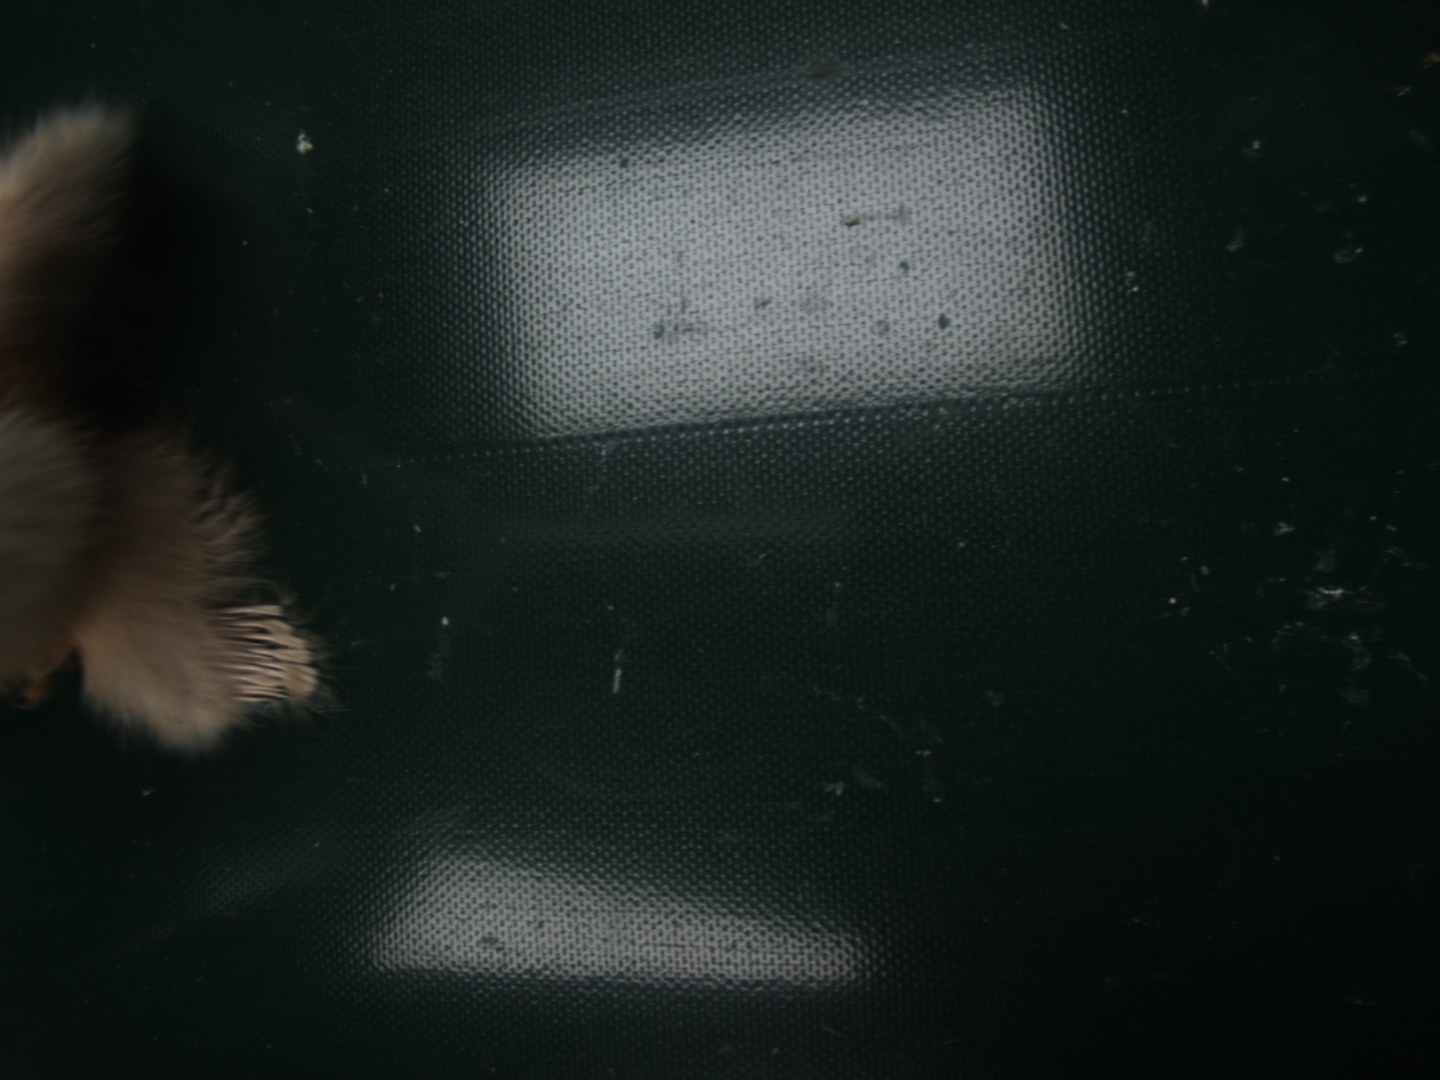female: (204, 602, 320, 710)
